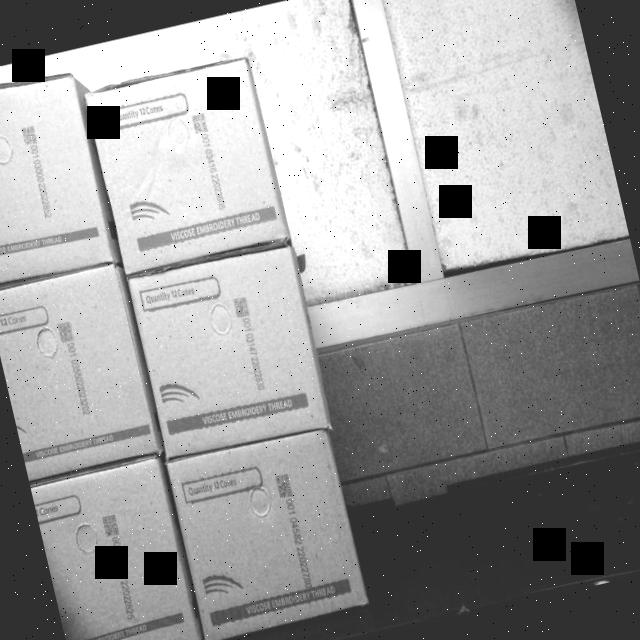box: (82, 52, 290, 274), (123, 242, 336, 457), (165, 426, 371, 640), (0, 259, 158, 474), (30, 456, 202, 640), (0, 67, 115, 286)
